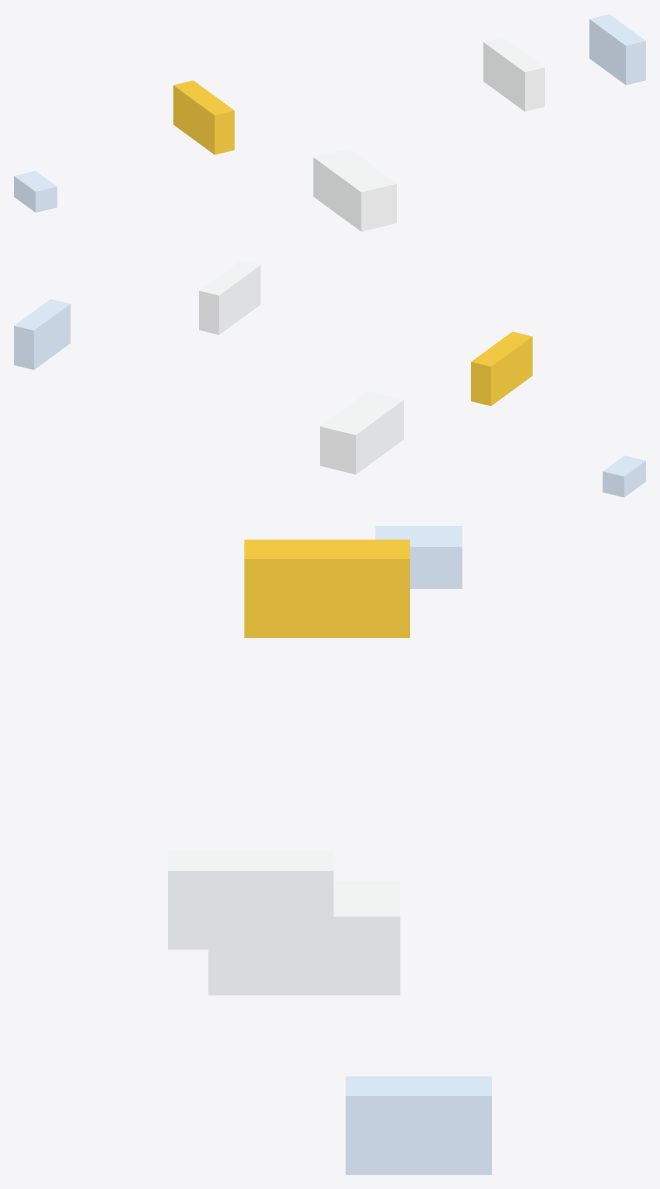
The picture shows the model from 3 angles, top to bottom: view 1: azimuth 30°, elevation 25°; view 2: azimuth 150°, elevation 25°; view 3: azimuth 270°, elevation 25°; orthographic projection. The views are drawn at different scales.
Visible parts, largest first — view 1: FFN ×3, Residual + norm ×3, Self-attention ×3, Classifier / output, Token + position embed.; view 2: FFN ×3, Residual + norm ×3, Self-attention ×3, Classifier / output, Token + position embed.; view 3: Self-attention ×3, Residual + norm ×3, Classifier / output, FFN ×3, Token + position embed..
Part boxes in pixels (left/top/right/bottom): FFN ×3: left=313, top=148, right=396, bottom=231; Residual + norm ×3: left=483, top=37, right=544, bottom=111; Self-attention ×3: left=173, top=80, right=234, bottom=154; Classifier / output: left=589, top=14, right=645, bottom=85; Token + position embed.: left=14, top=170, right=57, bottom=212; FFN ×3: left=320, top=391, right=403, bottom=474; Residual + norm ×3: left=199, top=260, right=260, bottom=334; Self-attention ×3: left=471, top=331, right=532, bottom=405; Classifier / output: left=14, top=299, right=70, bottom=369; Token + position embed.: left=602, top=455, right=645, bottom=497; Self-attention ×3: left=244, top=539, right=409, bottom=637; Residual + norm ×3: left=168, top=851, right=333, bottom=949; Classifier / output: left=345, top=1076, right=491, bottom=1174; FFN ×3: left=208, top=881, right=400, bottom=995; Token + position embed.: left=375, top=526, right=462, bottom=588.
Bounding box in the file's own units: 33.72 × 7.66 × 7.85.
